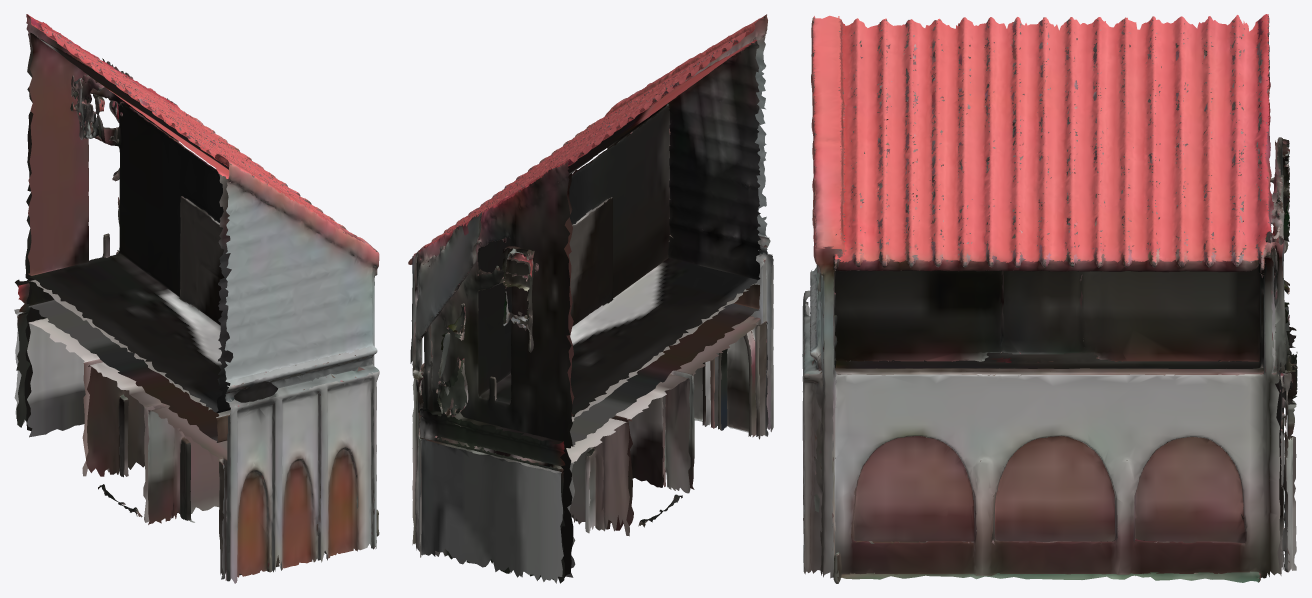
3 renders of one model, left to right at view 1: azimuth 30°, elevation 25°; view 2: azimuth 150°, elevation 25°; view 3: azimuth 270°, elevation 25°, orthographic. The views are drawn at different scales.
Visible parts, largest first — view 1: Meshy_AI_Urban_Mosaic_0106051901_texture; view 2: Meshy_AI_Urban_Mosaic_0106051901_texture; view 3: Meshy_AI_Urban_Mosaic_0106051901_texture.
Boxes of the visible parts, box(x1,y1,x2,y2) form: Meshy_AI_Urban_Mosaic_0106051901_texture: box(14, 14, 379, 583); Meshy_AI_Urban_Mosaic_0106051901_texture: box(408, 14, 773, 583); Meshy_AI_Urban_Mosaic_0106051901_texture: box(802, 14, 1297, 583).
Size of the model in its own units: 0.4769 by 1.16 by 1.08.
1 material, 1 textured.
